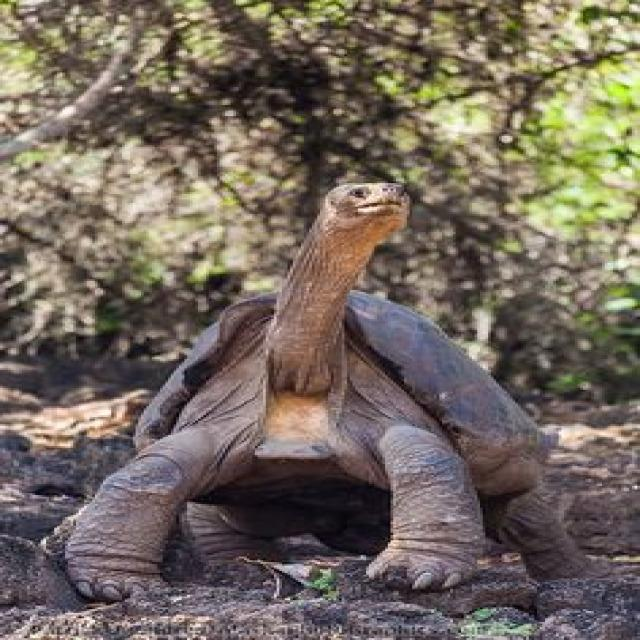Herbivorous: (65, 183, 599, 604)
